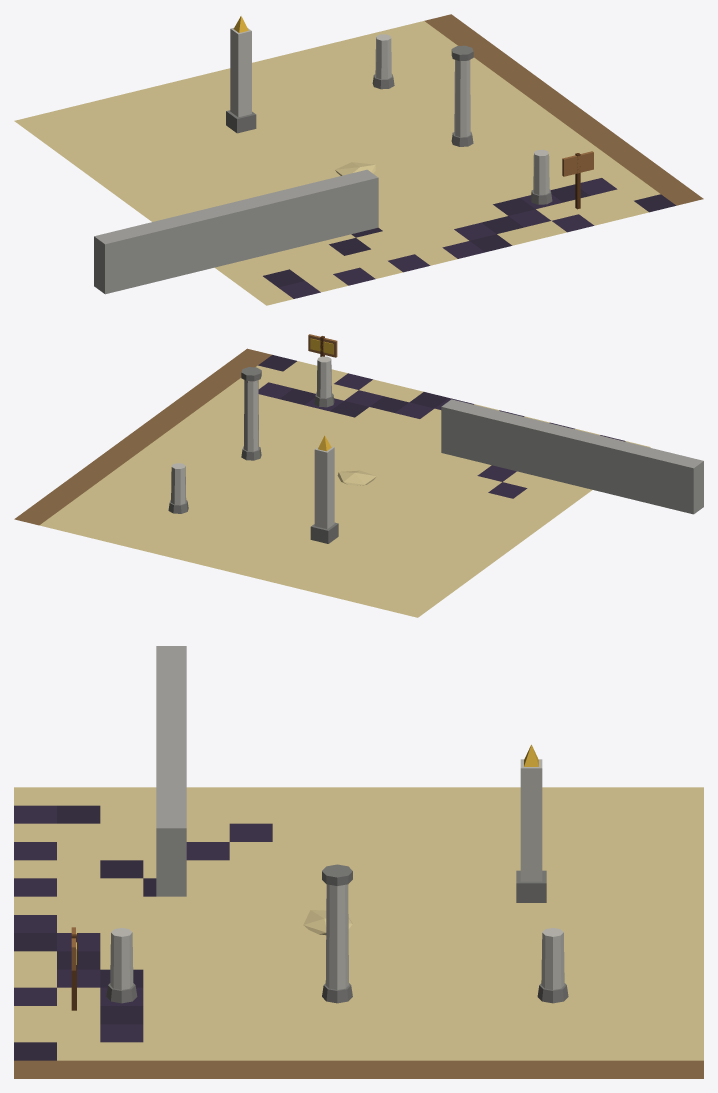
Rendered from chunk_5_21.glb.
3 renders of one model, top to bottom at view 1: azimuth 30°, elevation 25°; view 2: azimuth 150°, elevation 25°; view 3: azimuth 270°, elevation 25°, orthographic. The views are drawn at different scales.
Visible parts, largest first — view 1: chunk_5_21; view 2: chunk_5_21; view 3: chunk_5_21.
Part boxes in pixels (x1,y1,x2,y2): chunk_5_21: (14, 14, 703, 305); chunk_5_21: (14, 334, 703, 617); chunk_5_21: (14, 646, 703, 1078).
Size of the model in its own units: 20 by 4.13 by 16.
